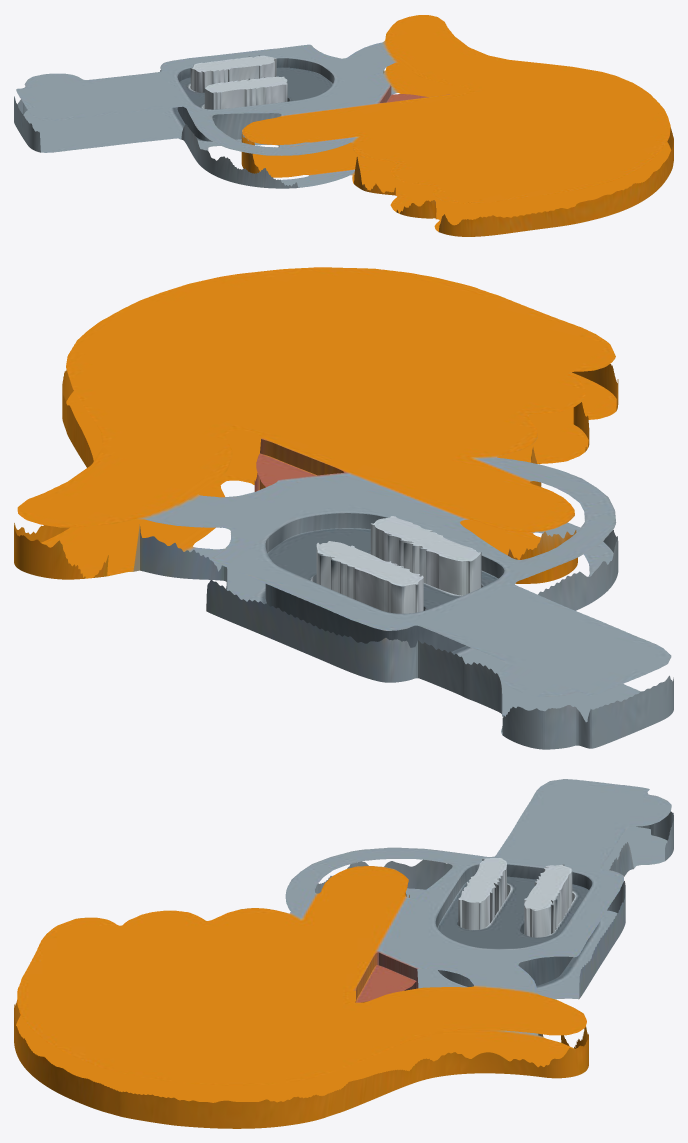
File: ThinkGun.fbx
The picture shows the model from 3 angles, top to bottom: view 1: azimuth 30°, elevation 25°; view 2: azimuth 150°, elevation 25°; view 3: azimuth 270°, elevation 25°; orthographic projection. The views are drawn at different scales.
Parts seen in each view (by area): view 1: ImageToStl.com thinkgun; view 2: ImageToStl.com thinkgun; view 3: ImageToStl.com thinkgun.
Part boxes in pixels (x1,y1,x2,y2): ImageToStl.com thinkgun: [14, 15, 673, 236]; ImageToStl.com thinkgun: [14, 267, 673, 749]; ImageToStl.com thinkgun: [14, 779, 673, 1128].
Size of the model in its own units: 9975 by 831 by 8997.
1 material, 1 textured.
